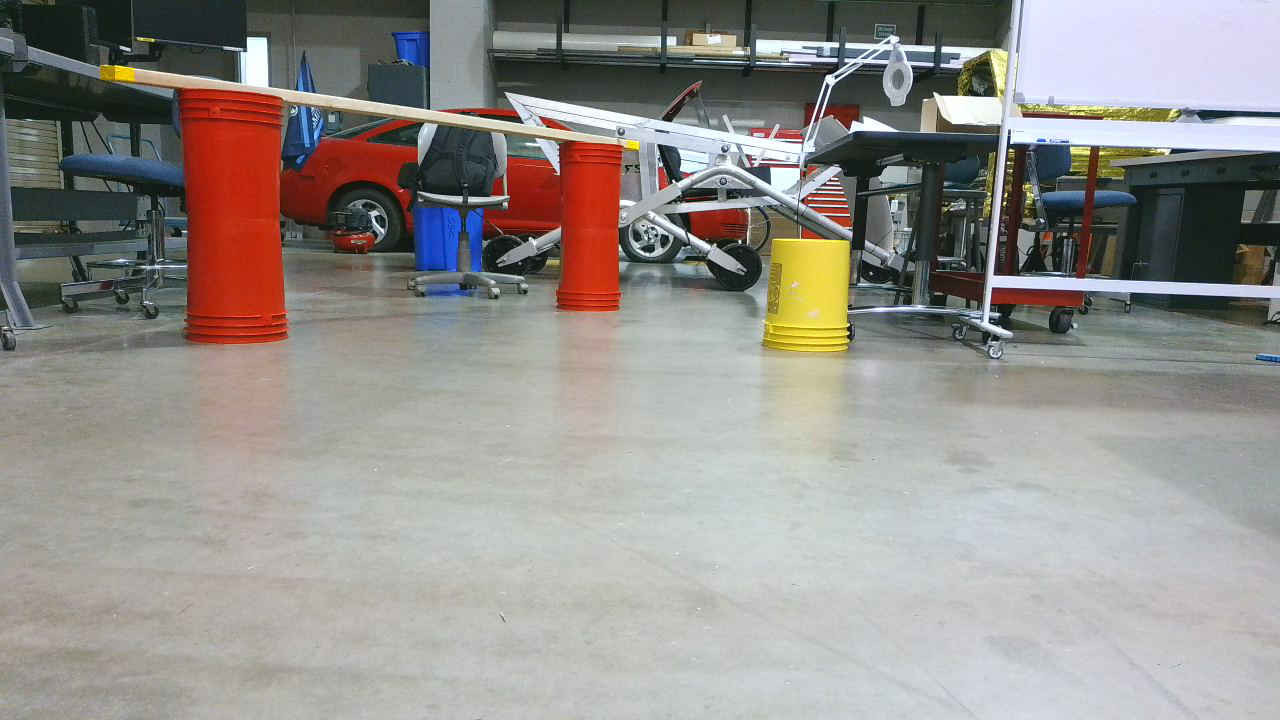red_bucket_arch: (185, 78, 628, 347)
yellow_bucket: (763, 242, 857, 355)
